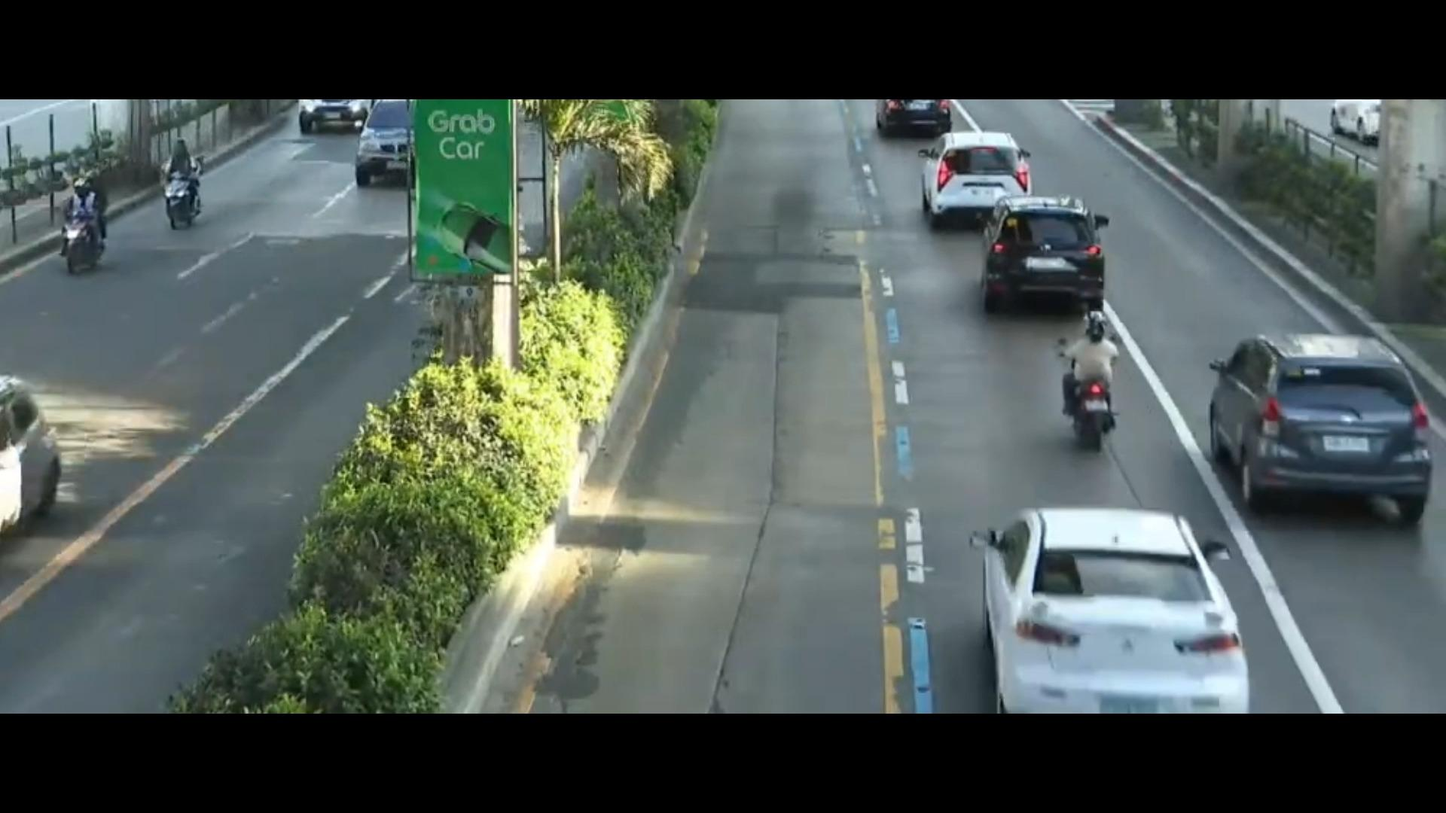Motorcycle: (1042, 292, 1141, 466), (51, 160, 125, 268), (138, 140, 217, 236)
SUV: (1179, 292, 1446, 537), (964, 187, 1134, 322), (899, 108, 1034, 232)
Sedan: (961, 497, 1263, 710)
